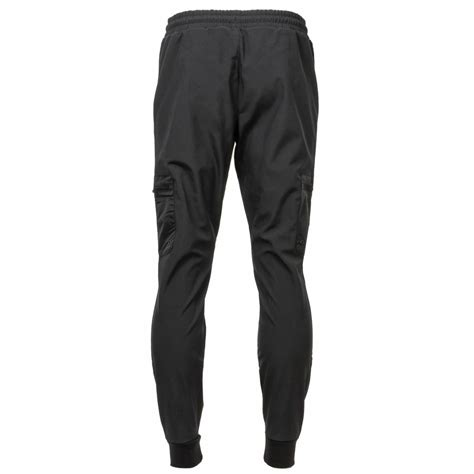nylon: (151, 9, 318, 445)
